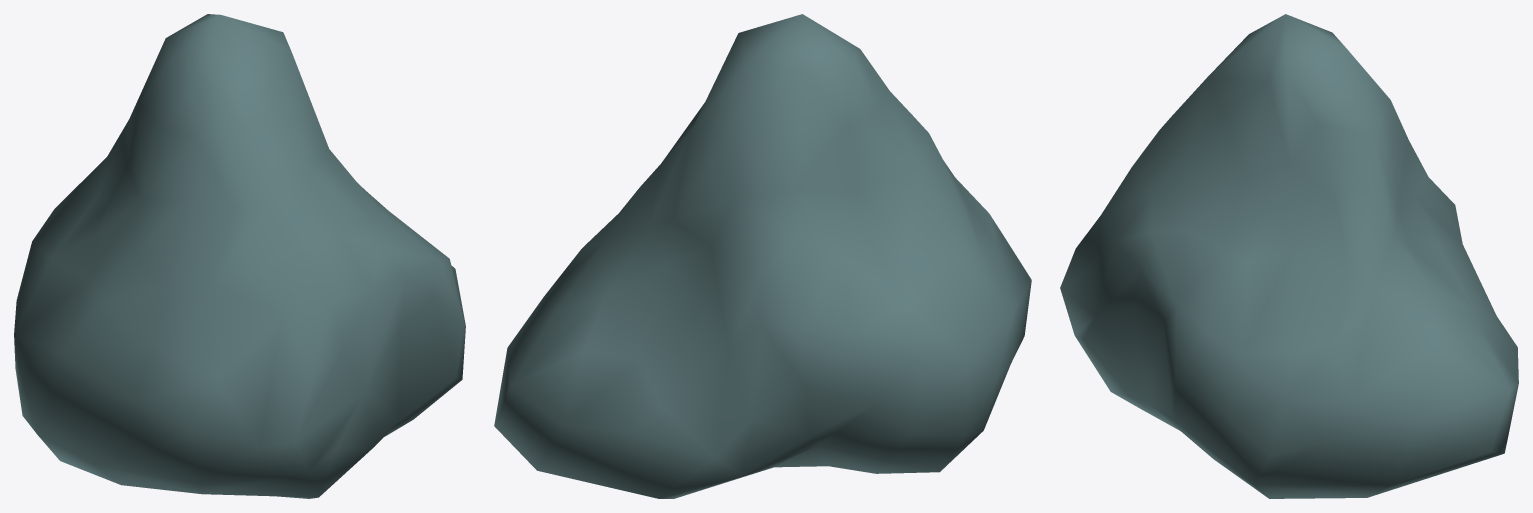
The model's file is Stone01.fbx.
3 views of the same model, side by side, from view 1: azimuth 30°, elevation 25°; view 2: azimuth 150°, elevation 25°; view 3: azimuth 270°, elevation 25° (orthographic). The views are drawn at different scales.
Visible parts, largest first — view 1: rock.005; view 2: rock.005; view 3: rock.005.
Boxes of the visible parts, left/top/right/bottom form: rock.005: left=14, top=14, right=465, bottom=498; rock.005: left=494, top=14, right=1031, bottom=498; rock.005: left=1060, top=14, right=1518, bottom=498.
Size of the model in its own units: 1.14 by 1.15 by 1.15.
